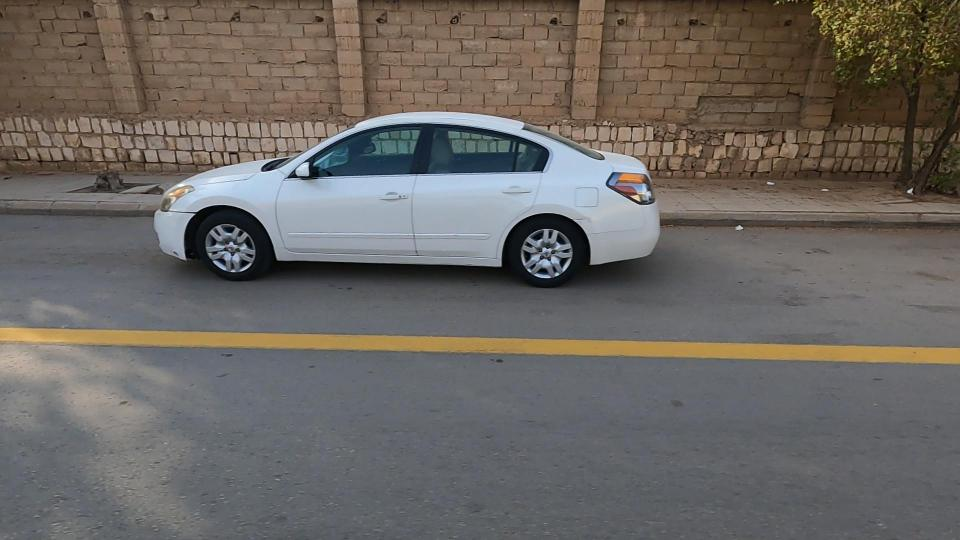GARBAGE: (737, 151, 802, 215), (886, 167, 926, 223), (800, 162, 843, 213), (717, 203, 764, 248)
